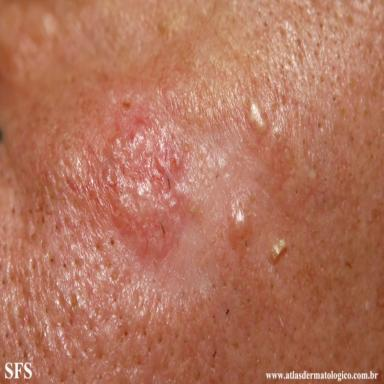basal-cell-carcinoma: (103, 101, 186, 264)
